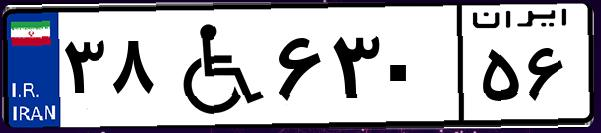0: (385, 28, 445, 110)
3: (330, 28, 385, 110), (57, 26, 110, 100)
5: (475, 38, 525, 113)
6: (270, 28, 330, 110), (525, 38, 570, 115)
8: (110, 28, 158, 98)
ژ (معلولین و جانبازان): (158, 12, 270, 120)
